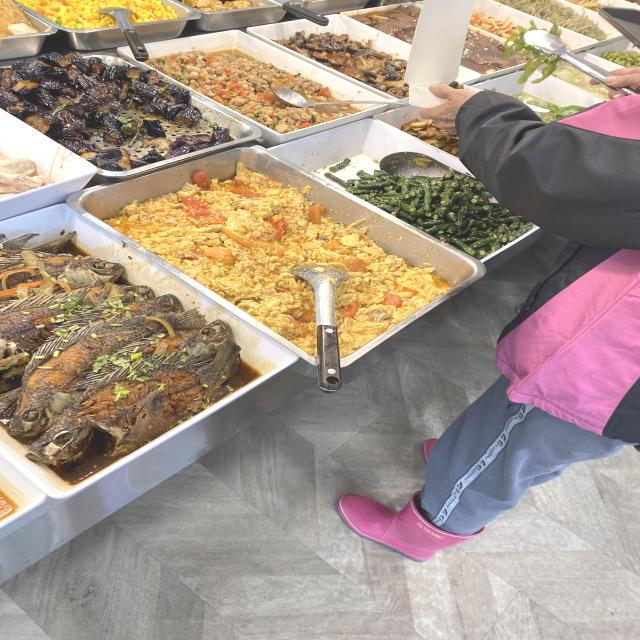Scramble Egg with Tomatoes: (172, 192, 300, 264)
eggplant: (28, 69, 118, 111)
